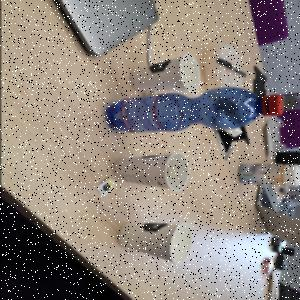Cup: (117, 222, 195, 268), (113, 153, 191, 195), (128, 55, 201, 95)
Plastic-bottle: (105, 88, 285, 135)
